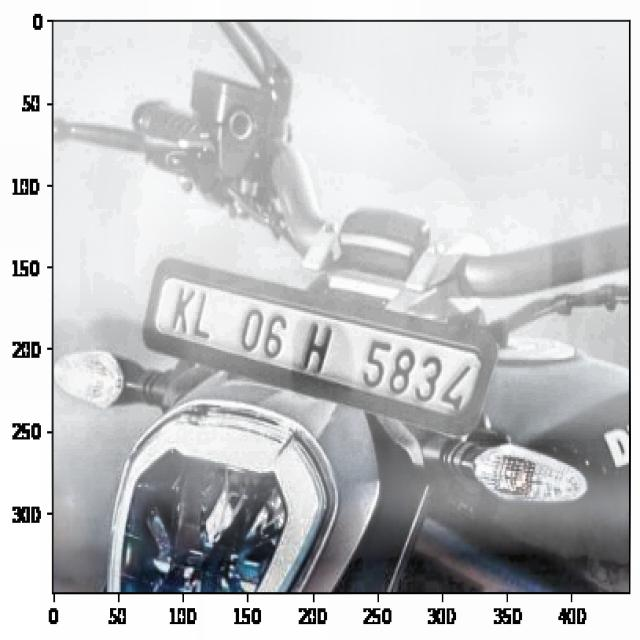license_plate: (160, 280, 482, 423)
